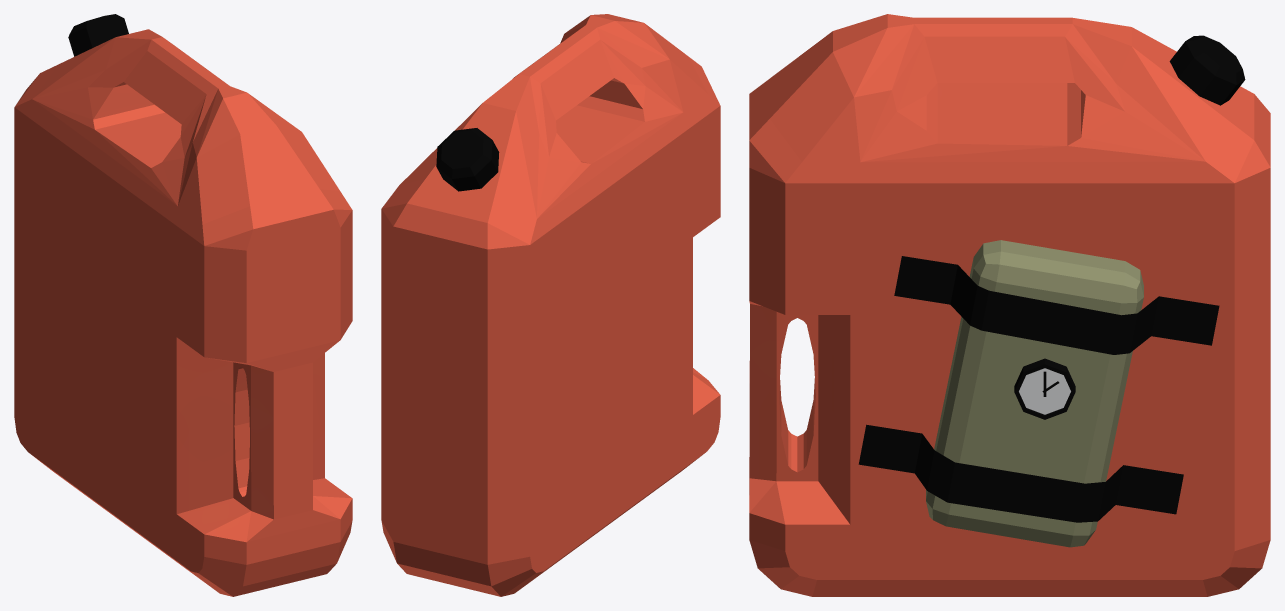
The model's file is scene_57KIVlBJwX.glb.
The picture shows the model from 3 angles, left to right: view 1: azimuth 30°, elevation 25°; view 2: azimuth 150°, elevation 25°; view 3: azimuth 270°, elevation 25°; orthographic projection. The views are drawn at different scales.
Parts seen in each view (by area): view 1: Gasoline_Bomb; view 2: Gasoline_Bomb; view 3: Gasoline_Bomb.
Boxes of the visible parts, bbox=[...] form: Gasoline_Bomb: bbox=[14, 14, 352, 596]; Gasoline_Bomb: bbox=[381, 14, 720, 596]; Gasoline_Bomb: bbox=[749, 14, 1270, 596].
Bounding box in the file's own units: 0.3211 × 0.7278 × 0.6266.
1 material, 1 textured.
